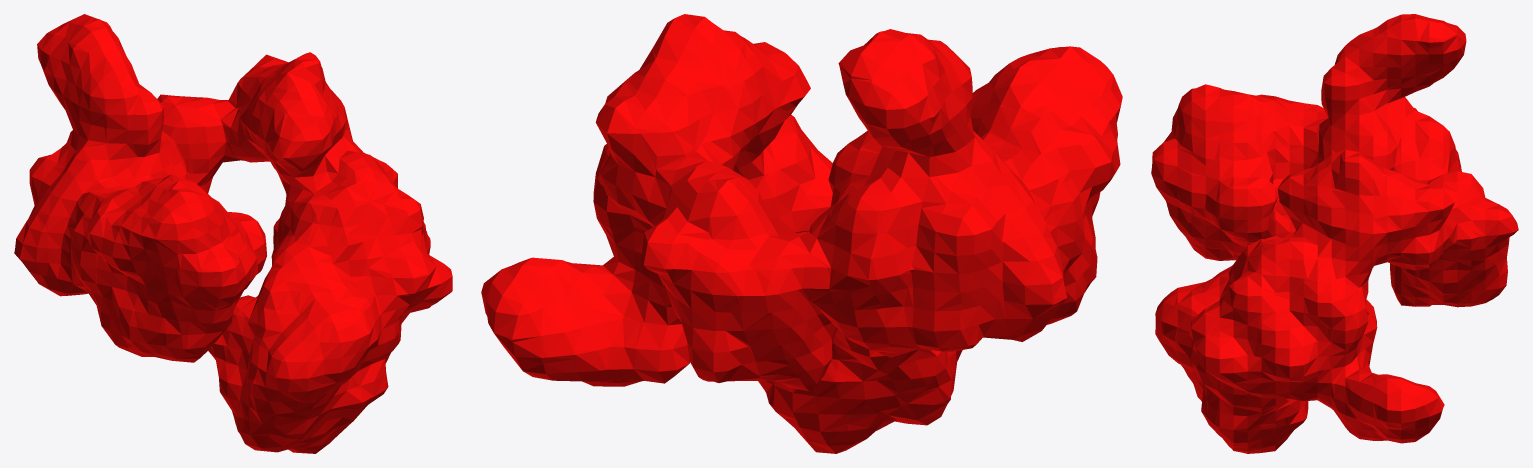
Rendered from speA_coarse.dae.
The picture shows the model from 3 angles, left to right: view 1: azimuth 30°, elevation 25°; view 2: azimuth 150°, elevation 25°; view 3: azimuth 270°, elevation 25°; orthographic projection. The views are drawn at different scales.
Visible parts, largest first — view 1: speA; view 2: speA; view 3: speA.
Boxes of the visible parts, bbox=[...] form: speA: bbox=[14, 14, 452, 453]; speA: bbox=[481, 14, 1122, 453]; speA: bbox=[1151, 14, 1518, 453].
Bounding box in the file's own units: 124 × 115 × 101.
